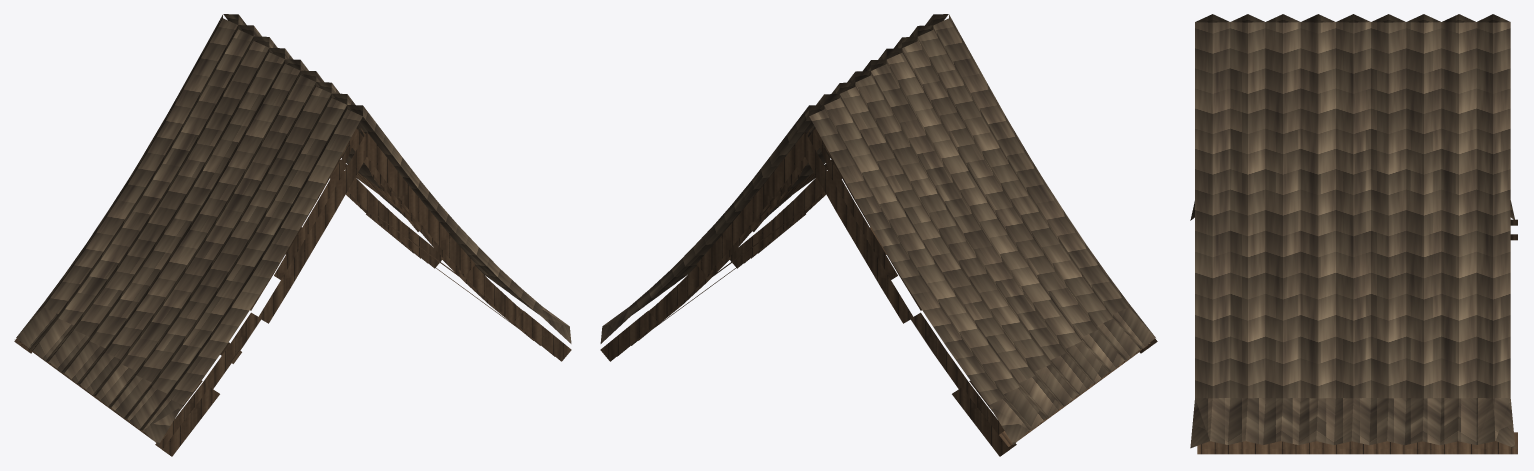
The model's file is Roof_Shingle_6x4_LOD1.gltf.
3 views of the same model, side by side, from view 1: azimuth 30°, elevation 25°; view 2: azimuth 150°, elevation 25°; view 3: azimuth 270°, elevation 25° (orthographic). The views are drawn at different scales.
Visible parts, largest first — view 1: Roof_Shingle_6x4_LOD1; view 2: Roof_Shingle_6x4_LOD1; view 3: Roof_Shingle_6x4_LOD1.
Boxes of the visible parts, bbox=[...] form: Roof_Shingle_6x4_LOD1: bbox=[14, 14, 571, 456]; Roof_Shingle_6x4_LOD1: bbox=[600, 14, 1157, 456]; Roof_Shingle_6x4_LOD1: bbox=[1190, 14, 1517, 454].
Size of the model in its own units: 8.25 by 5.42 by 4.95.
Materials: 2 (2 with a texture image).
